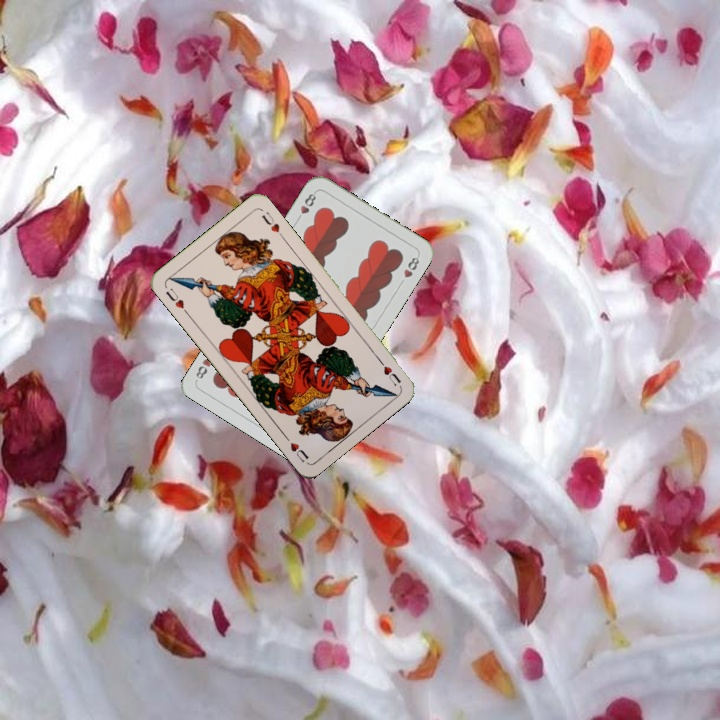H8: (292, 188, 319, 224)
HU: (374, 354, 403, 388), (162, 284, 191, 317)
